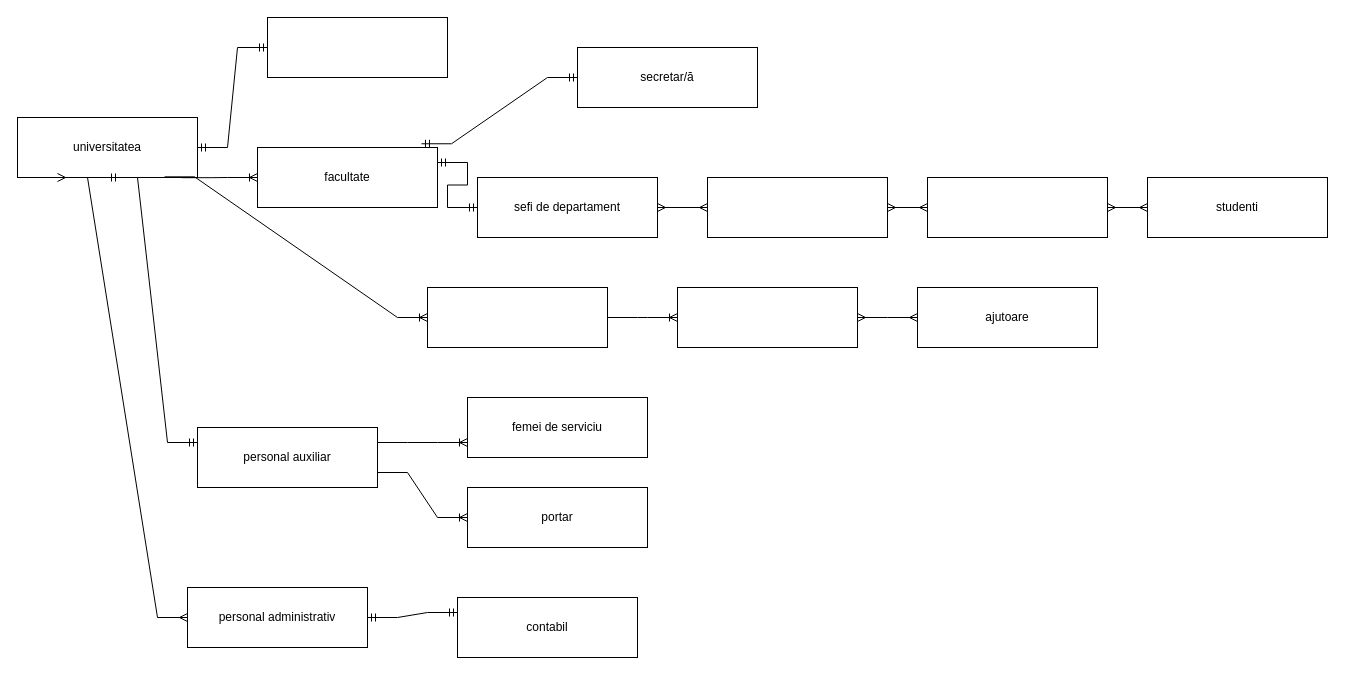
The diagram is 1345 pixels wide and 675 high, and some of its shapes have lost their labels. Each missing label, with the box of its shape:
bucatari: (676, 286, 858, 348)
cantina: (426, 286, 608, 348)
cursuri: (926, 176, 1108, 238)
decan: (266, 16, 448, 78)
profesori: (706, 176, 888, 238)
